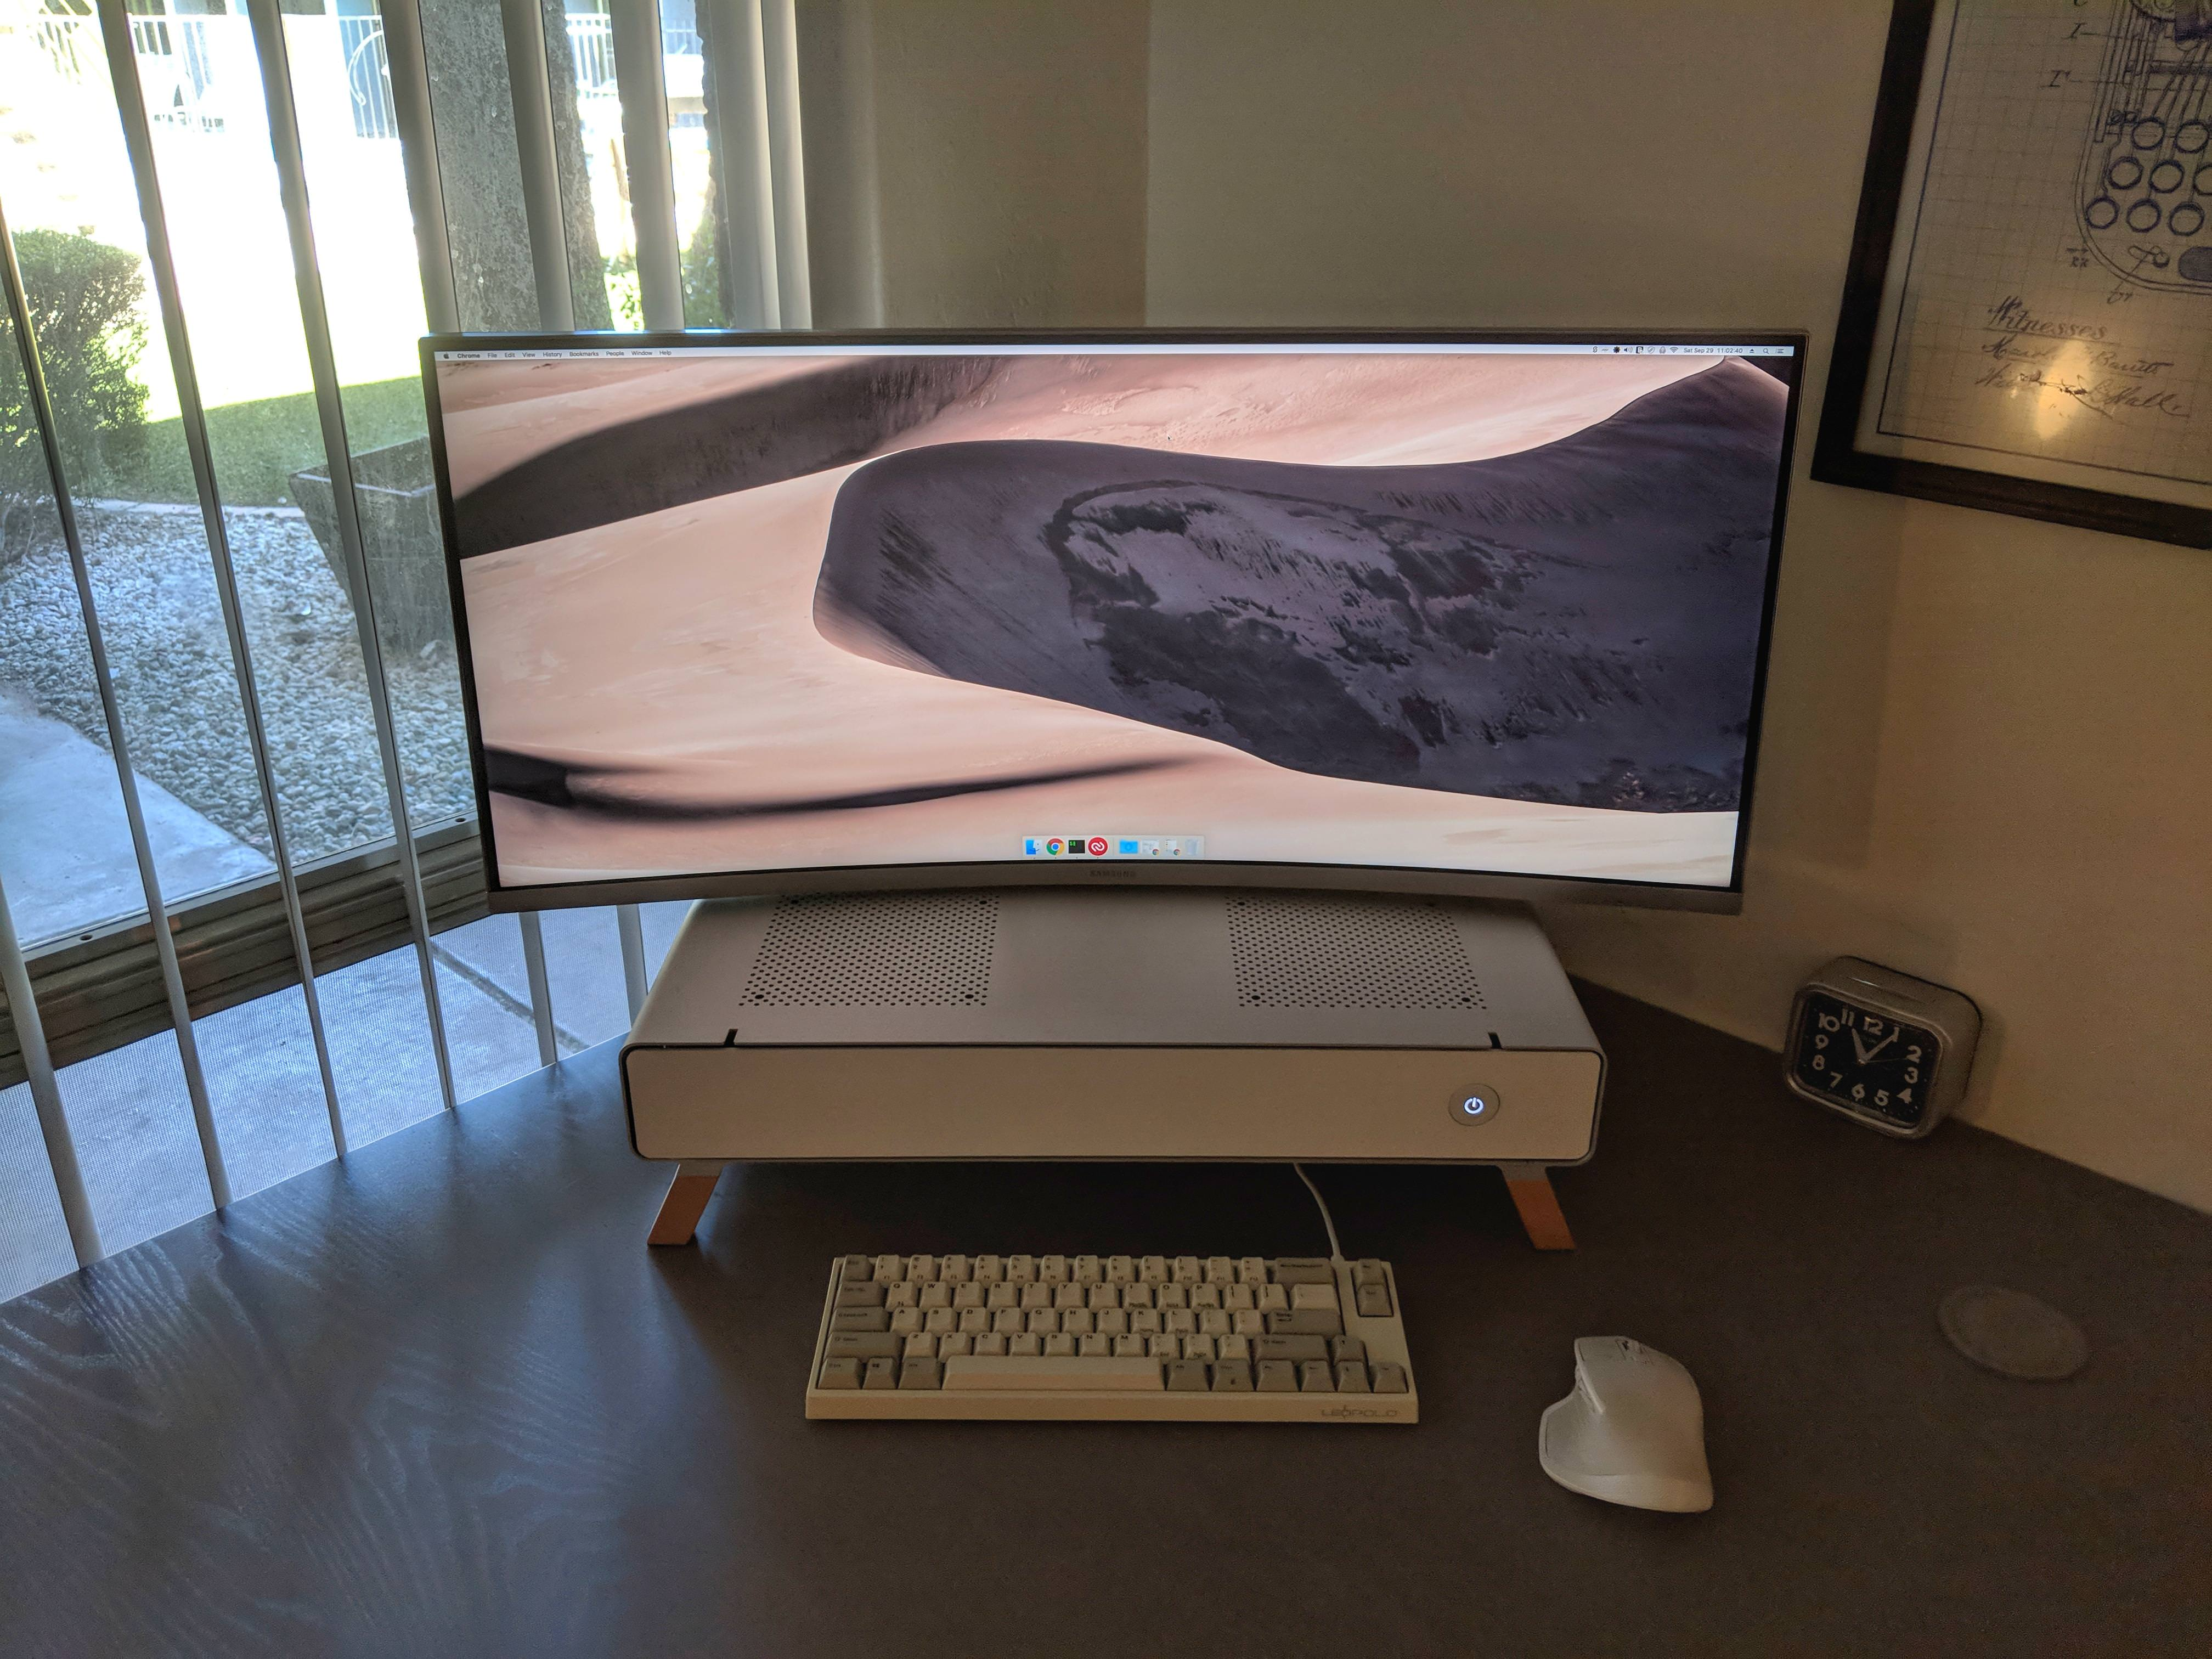Decoration (Clock): (1778, 957, 1984, 1141)
Decoration (Picture): (1813, 0, 2212, 551)
Desk (Generic): (0, 965, 2212, 1659)
Desktop (OSX): (613, 899, 1609, 1251)
Keyboard (Generic): (798, 1251, 1421, 1429)
Monitor (Landscape): (418, 328, 1808, 915)
Mouse (Ergonomic): (1538, 1333, 1716, 1518)
